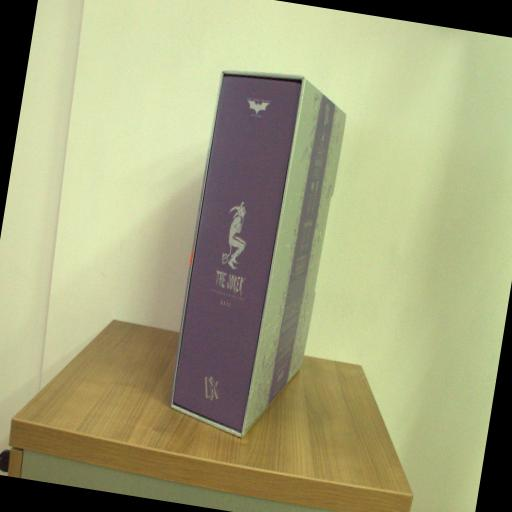Joker: (163, 66, 353, 448)
